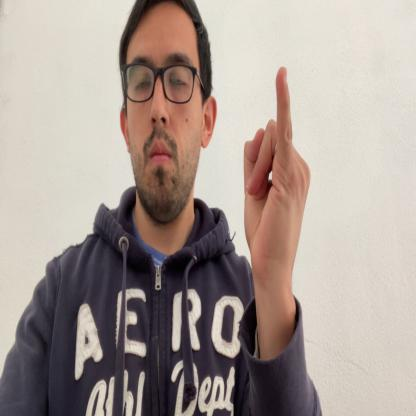I: (243, 63, 311, 284)
